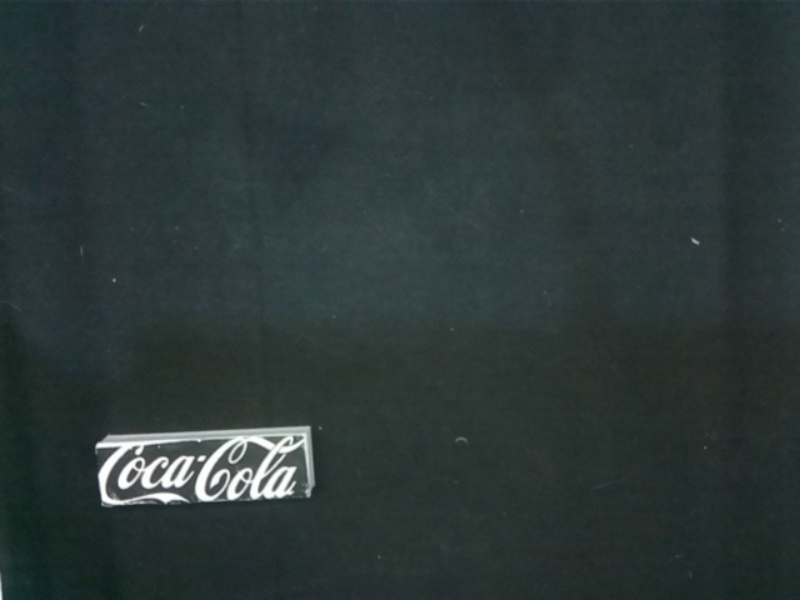coca-cola: (97, 429, 308, 513)
